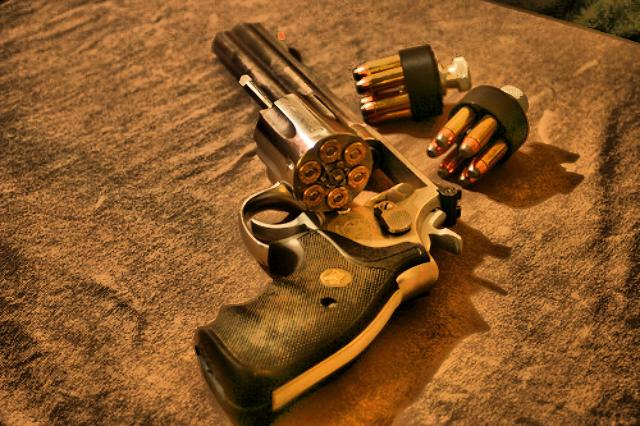pistol: (188, 20, 464, 414)
